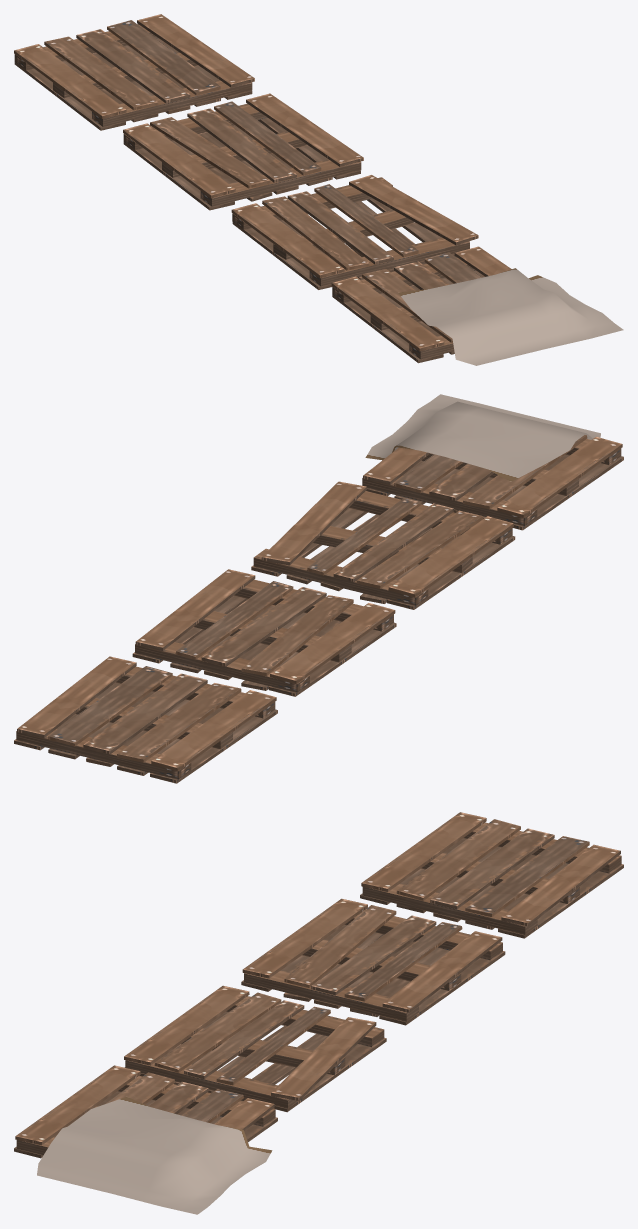
File: Paletten.fbx
The picture shows the model from 3 angles, top to bottom: view 1: azimuth 30°, elevation 25°; view 2: azimuth 150°, elevation 25°; view 3: azimuth 330°, elevation 25°; orthographic projection. The views are drawn at different scales.
Visible parts, largest first — view 1: Palette04, Palette02, Palette01, Palette03; view 2: Palette04, Palette02, Palette01, Palette03; view 3: Palette04, Palette02, Palette01, Palette03.
Part boxes in pixels (<box>): Palette04: <box>331,246,623,365</box>; Palette02: <box>123,93,363,210</box>; Palette01: <box>14,14,254,130</box>; Palette03: <box>231,175,478,289</box>; Palette04: <box>362,394,623,530</box>; Palette02: <box>132,569,396,696</box>; Palette01: <box>14,656,277,783</box>; Palette03: <box>251,481,515,609</box>; Palette04: <box>14,1065,277,1214</box>; Palette02: <box>241,898,505,1025</box>; Palette01: <box>360,812,623,938</box>; Palette03: <box>124,985,386,1112</box>.
Bounding box in the file's own units: 238 × 29.9 × 941.
